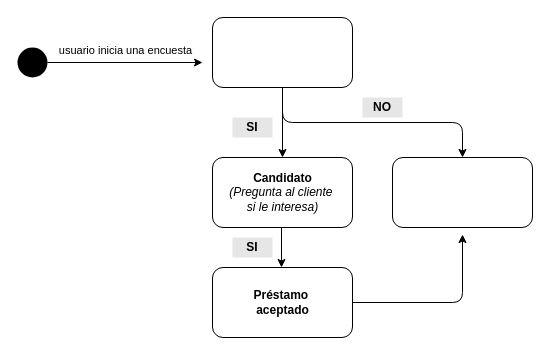
Image size: 550x355. Some labels were removed from this diagram. The box of each missing label's shape, as (x1, y1, x2, y2) in pixels:
Fin (se procesa respuesta): (392, 156, 532, 228)
Inicio ¿Es mayor de edad?: (212, 16, 352, 88)
